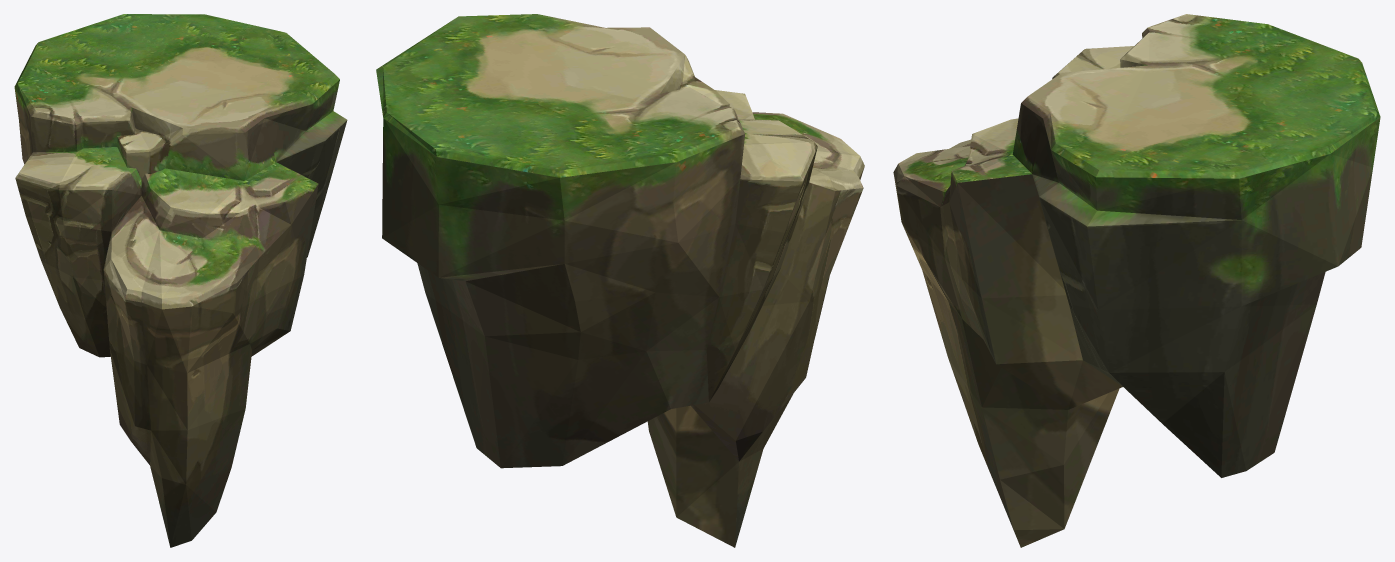
File: TKZC_ShiTou_01.fbx
The picture shows the model from 3 angles, left to right: view 1: azimuth 30°, elevation 25°; view 2: azimuth 150°, elevation 25°; view 3: azimuth 270°, elevation 25°; orthographic projection. The views are drawn at different scales.
Parts seen in each view (by area): view 1: TKZC_ShiTou_01; view 2: TKZC_ShiTou_01; view 3: TKZC_ShiTou_01.
Boxes of the visible parts, x1,y1,x2,y2 form: TKZC_ShiTou_01: (14, 14, 347, 547); TKZC_ShiTou_01: (376, 14, 864, 547); TKZC_ShiTou_01: (893, 14, 1380, 547).
Size of the model in its own units: 15.52 by 19.49 by 17.6.
